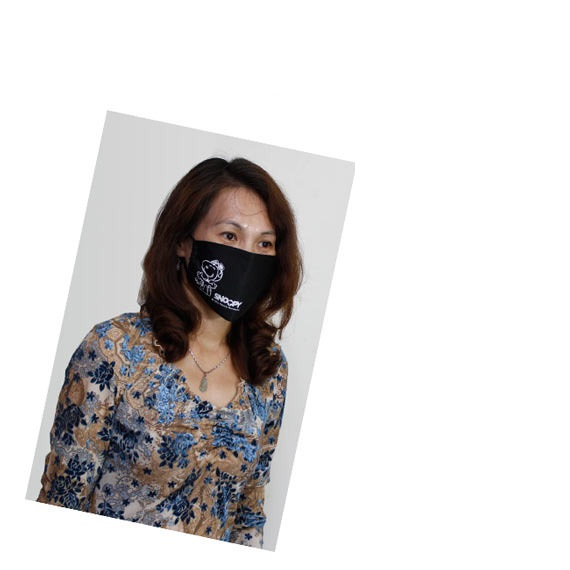face_mask: (187, 185, 278, 314)
